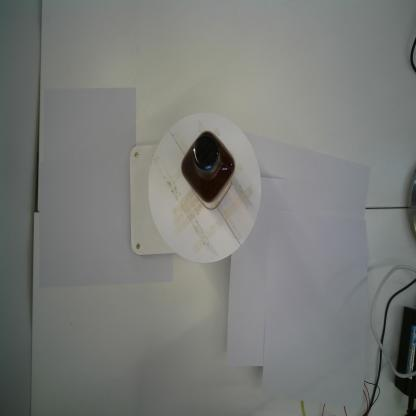Seasoner: (179, 127, 238, 212)
